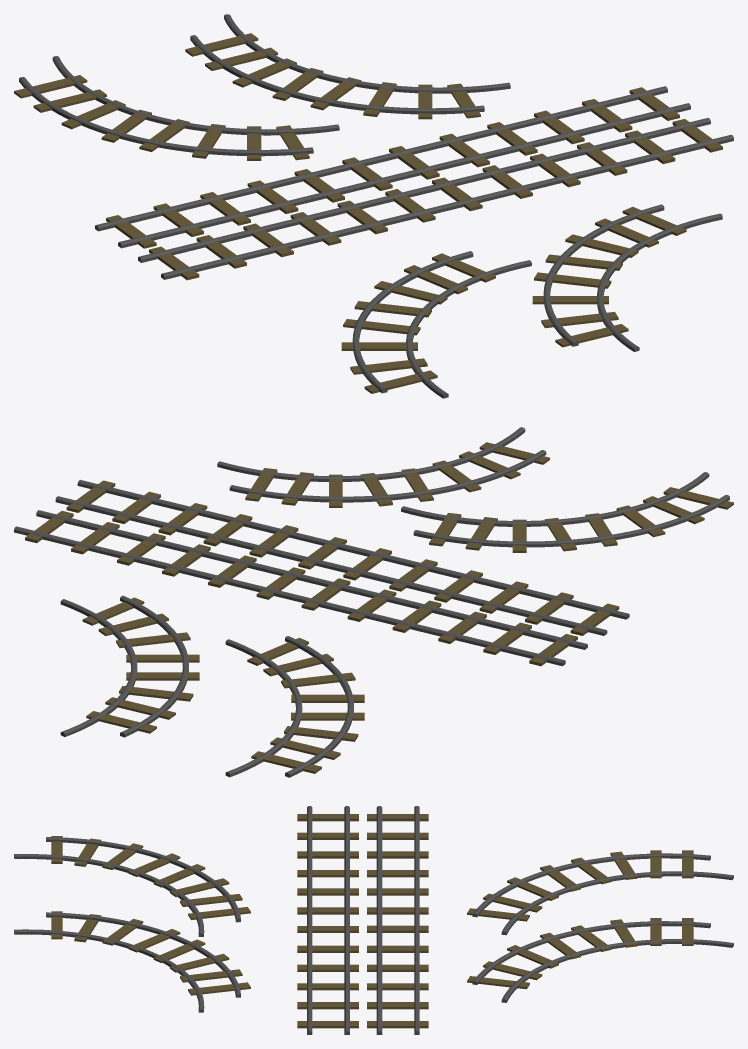
Rendered from TRAIN TRACKS GAME JAM V2.fbx.
3 views of the same model, one above another, from view 1: azimuth 30°, elevation 25°; view 2: azimuth 150°, elevation 25°; view 3: azimuth 270°, elevation 25° (orthographic). The views are drawn at different scales.
Parts seen in each view (by area): view 1: polySurface512, polySurface511, polySurface529, polySurface543, polySurface550, polySurface551, polySurface541, polySurface546, polySurface542; view 2: polySurface512, polySurface529, polySurface511, polySurface543, polySurface550, polySurface546, polySurface542, polySurface541, polySurface551; view 3: polySurface512, polySurface511, polySurface529, polySurface543, polySurface550, polySurface551, polySurface541, polySurface546, polySurface542, polySurface499, polySurface532, polySurface536 (+11 smaller).
Part boxes in pixels (x1,y1,x2,y2): polySurface512: (138,117,733,280); polySurface511: (14,56,339,160); polySurface529: (341,251,531,398); polySurface543: (118,103,690,248); polySurface550: (95,86,667,231); polySurface551: (190,35,484,114); polySurface541: (224,14,510,93); polySurface546: (543,204,664,346); polySurface542: (597,213,722,351); polySurface512: (55,480,629,635); polySurface529: (401,472,733,552); polySurface511: (225,636,364,777); polySurface543: (36,510,587,649); polySurface550: (14,526,565,666); polySurface546: (229,450,546,502); polySurface542: (217,427,525,481); polySurface541: (60,599,137,736); polySurface551: (120,595,188,737); polySurface512: (297,806,358,1034); polySurface511: (467,850,733,935); polySurface529: (14,836,250,936); polySurface543: (376,806,382,1034); polySurface550: (414,806,419,1034); polySurface551: (472,921,710,984); polySurface541: (501,939,733,1002); polySurface546: (46,912,240,997); polySurface542: (14,929,204,1012); polySurface499: (367,907,428,914); polySurface532: (367,851,428,858); polySurface536: (367,888,428,895).
Bounding box in the file's own units: 30.25 × 0.7713 × 40.85.
